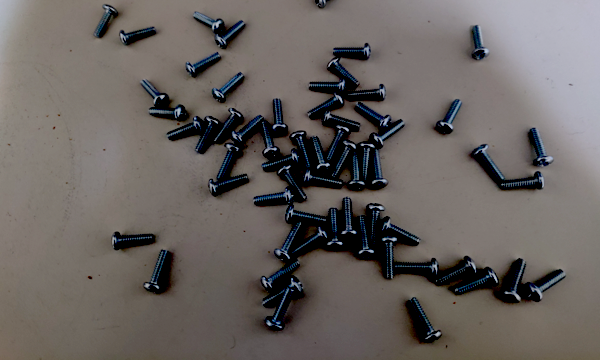shortscrew: (409, 298, 443, 344), (524, 269, 567, 303), (261, 259, 301, 294), (434, 256, 478, 286), (454, 267, 499, 296), (265, 287, 294, 331), (262, 277, 303, 308), (291, 225, 329, 258), (473, 143, 505, 182), (380, 217, 422, 246), (500, 258, 527, 303), (274, 221, 303, 262), (277, 164, 308, 202), (143, 250, 170, 293), (213, 108, 243, 145), (370, 119, 406, 149), (327, 57, 360, 89), (230, 115, 264, 146), (308, 91, 345, 119), (331, 140, 358, 178), (212, 72, 245, 103), (530, 128, 555, 168), (355, 103, 392, 130), (195, 116, 221, 154), (166, 116, 205, 141), (216, 143, 241, 182), (326, 124, 351, 163), (395, 258, 439, 280), (208, 174, 250, 197), (437, 100, 464, 135), (262, 149, 302, 172), (186, 53, 223, 77), (94, 4, 119, 39), (215, 20, 246, 48), (357, 216, 377, 259), (141, 79, 170, 108), (501, 171, 545, 190), (290, 131, 312, 169), (311, 136, 333, 174), (322, 109, 361, 130), (326, 208, 345, 251), (380, 235, 398, 280), (119, 25, 157, 46), (253, 187, 295, 206), (367, 204, 386, 246), (303, 169, 344, 188), (112, 232, 155, 250), (341, 197, 359, 240), (192, 11, 225, 34), (370, 150, 389, 189), (347, 152, 366, 191), (286, 206, 327, 224), (261, 121, 280, 158), (359, 142, 376, 182), (348, 84, 386, 101), (472, 25, 490, 60), (271, 98, 288, 135), (333, 44, 371, 60), (149, 105, 186, 121), (315, 0, 348, 9)
